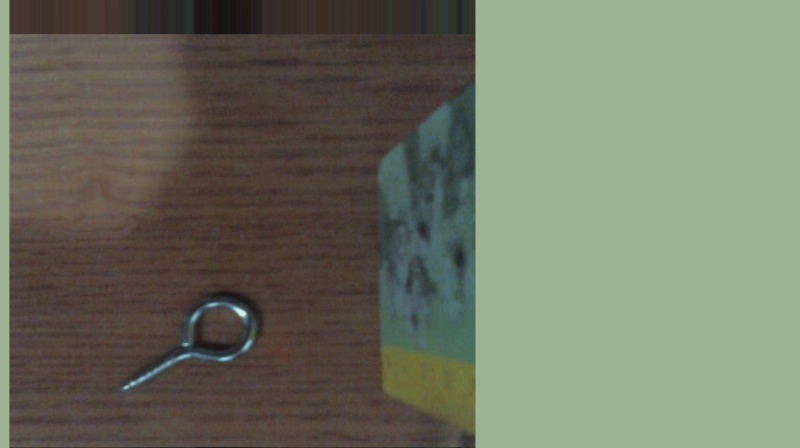O001: (113, 289, 264, 399)
